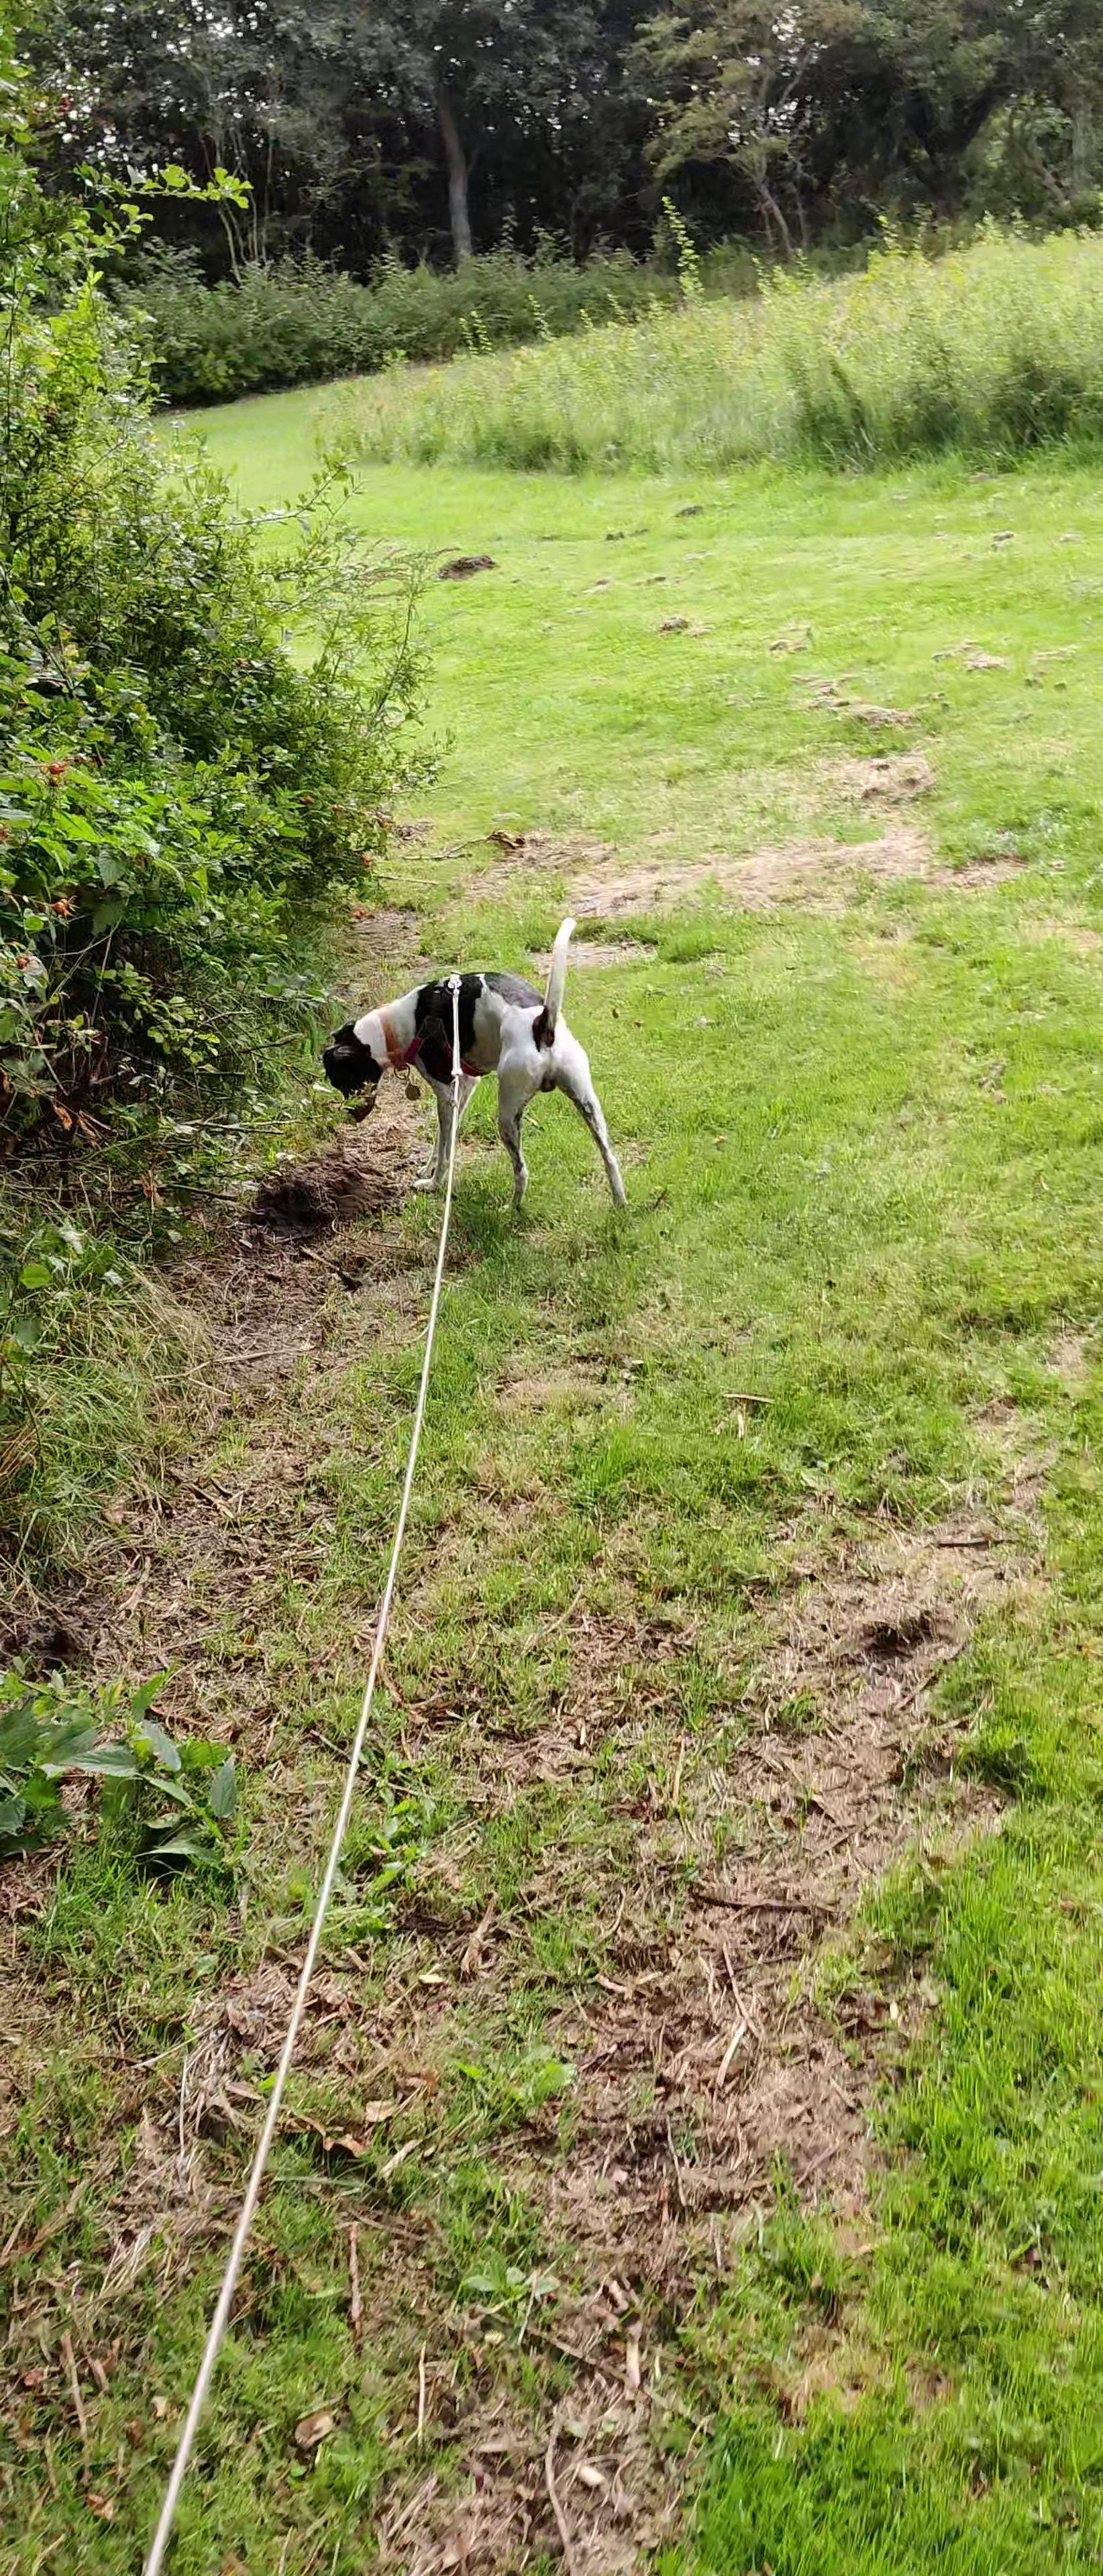Dog: (309, 899, 636, 1252)
